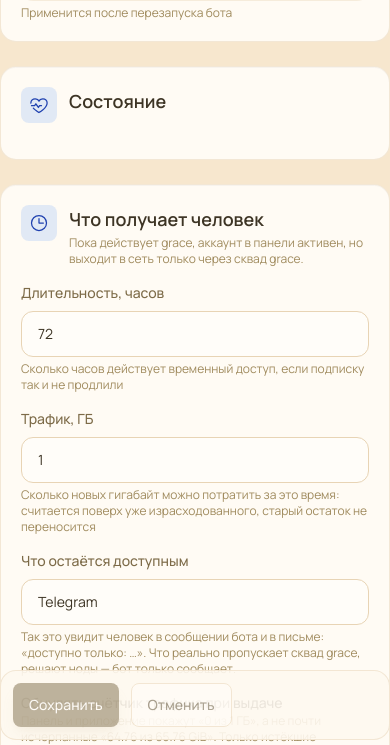
раздел grace-доступа › отмена возвращает форму к сохранённому
(page scrolled)
Replace the text in the number field labelled "Длительность, часов" with "48" at [195, 334], box [21,311,369,357]
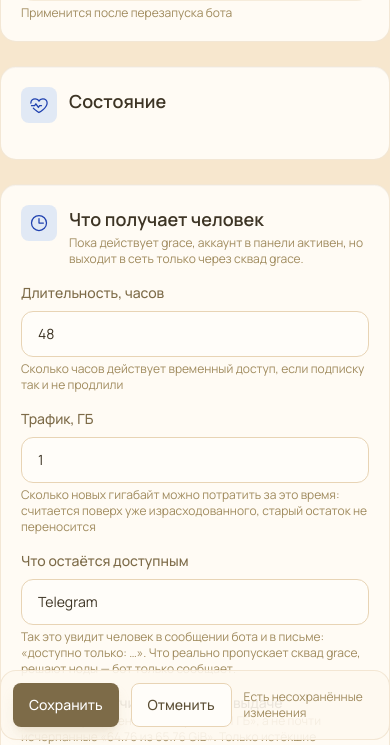
Click the button "Отменить" at [181, 705], box [131,683,232,727]
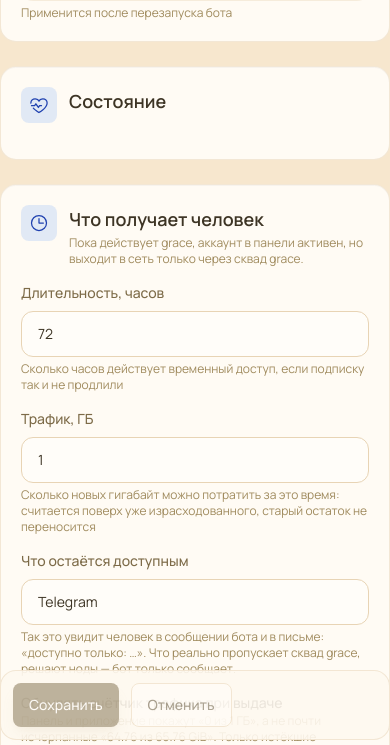
expect the number field labelled "Длительность, часов" holds "72": met, box [21,311,369,357]
expect the button "Сохранить" is disabled: met, box [13,683,119,727]
